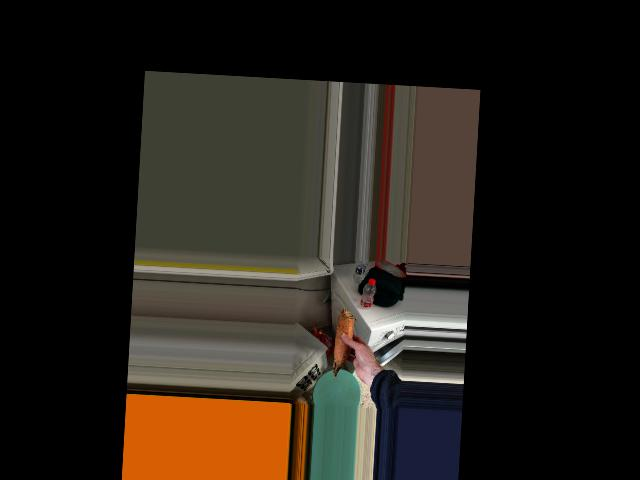sweet_potato: (331, 306, 359, 379)
